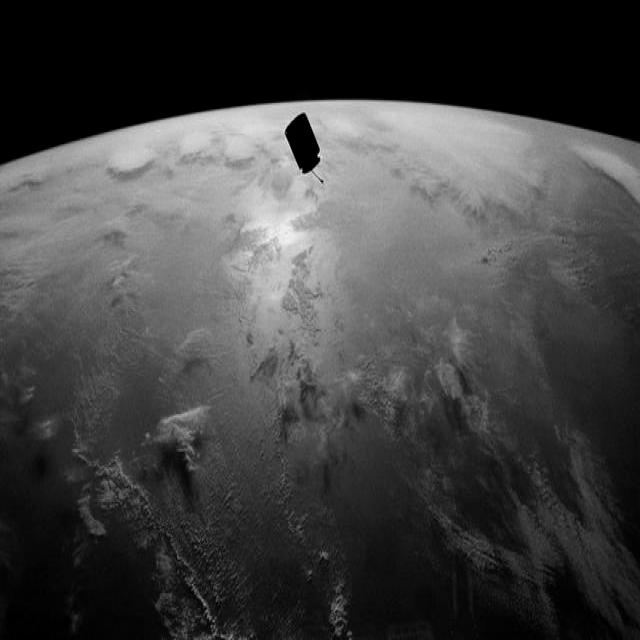satellite: (285, 114, 320, 172)
